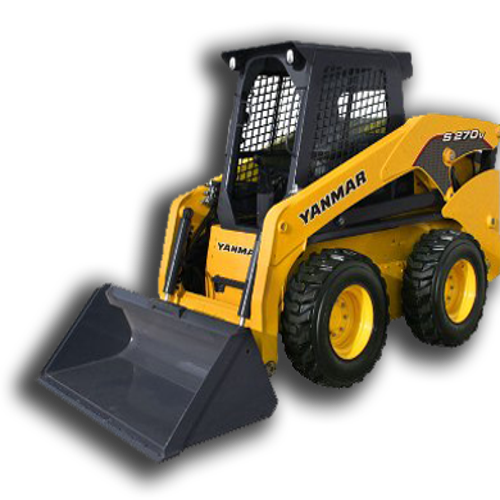con_eq: (20, 36, 500, 469)
